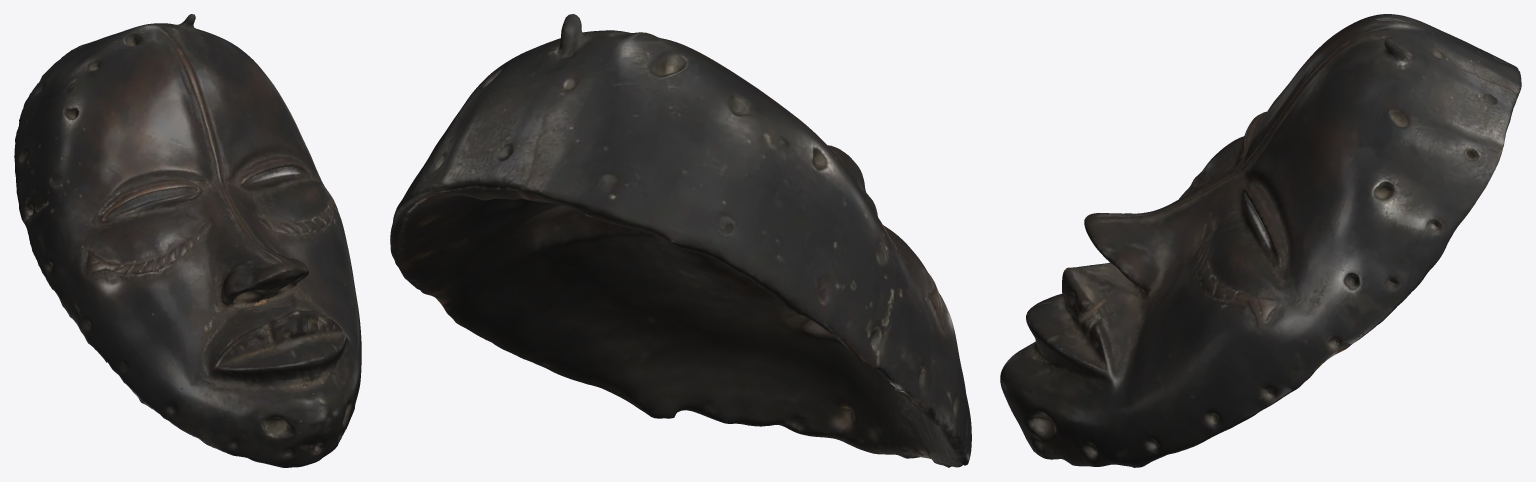
File: preview.glb
The picture shows the model from 3 angles, left to right: view 1: azimuth 30°, elevation 25°; view 2: azimuth 150°, elevation 25°; view 3: azimuth 270°, elevation 25°; orthographic projection. The views are drawn at different scales.
Parts seen in each view (by area): view 1: Object_2; view 2: Object_2; view 3: Object_2.
Boxes of the visible parts, box(x1,y1,x2,y2) form: Object_2: box(14, 14, 361, 467); Object_2: box(390, 14, 971, 467); Object_2: box(1000, 14, 1521, 467).
Bounding box in the file's own units: 127 × 149 × 165.
1 material, 1 textured.
